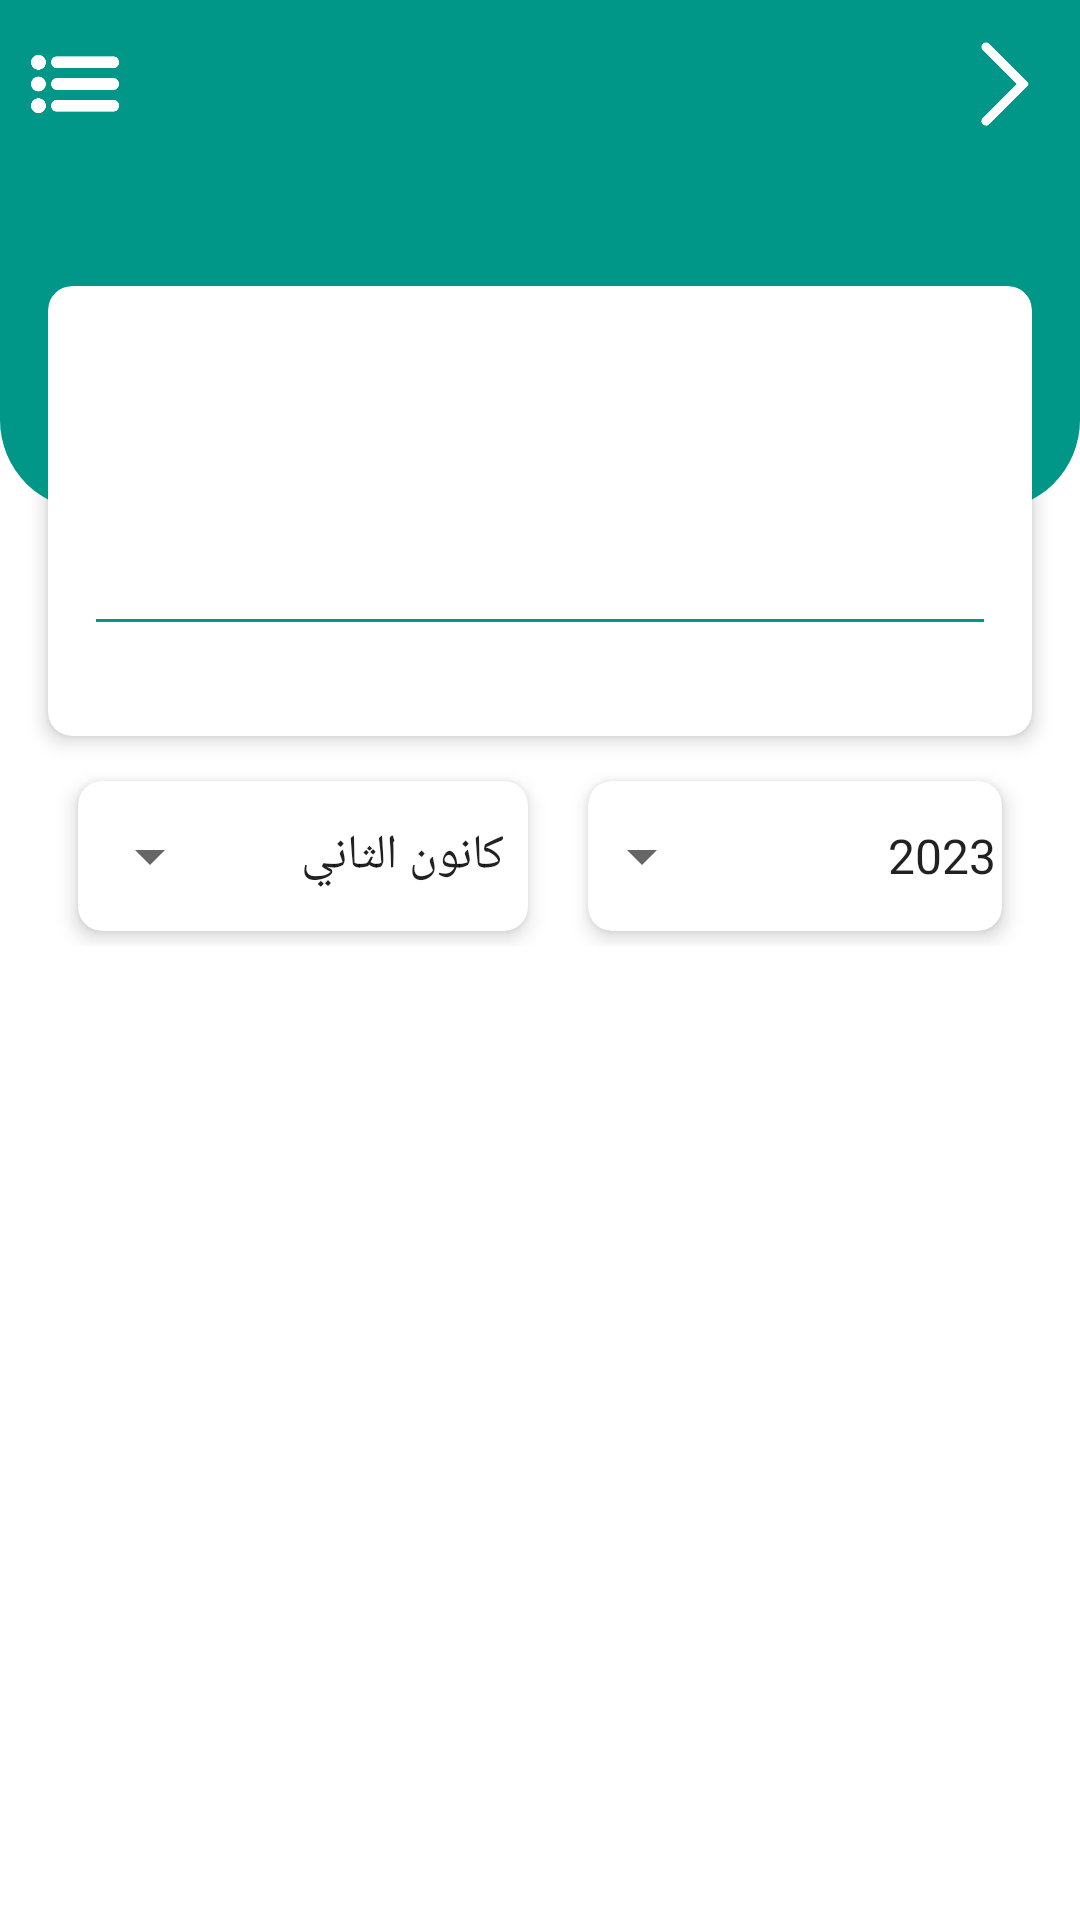

Screen size 1080×1920. Icon name, then its box in pixels as (x1,y1,x2,y2):
iconmenu: (31,55,119,113)
